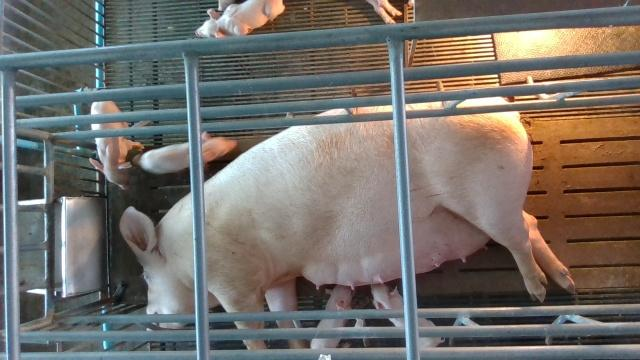piglet: (371, 283, 445, 347), (90, 103, 144, 190), (135, 131, 237, 173), (194, 0, 285, 36), (310, 285, 357, 348)
sow-sleep-lactate: (119, 96, 575, 351)
